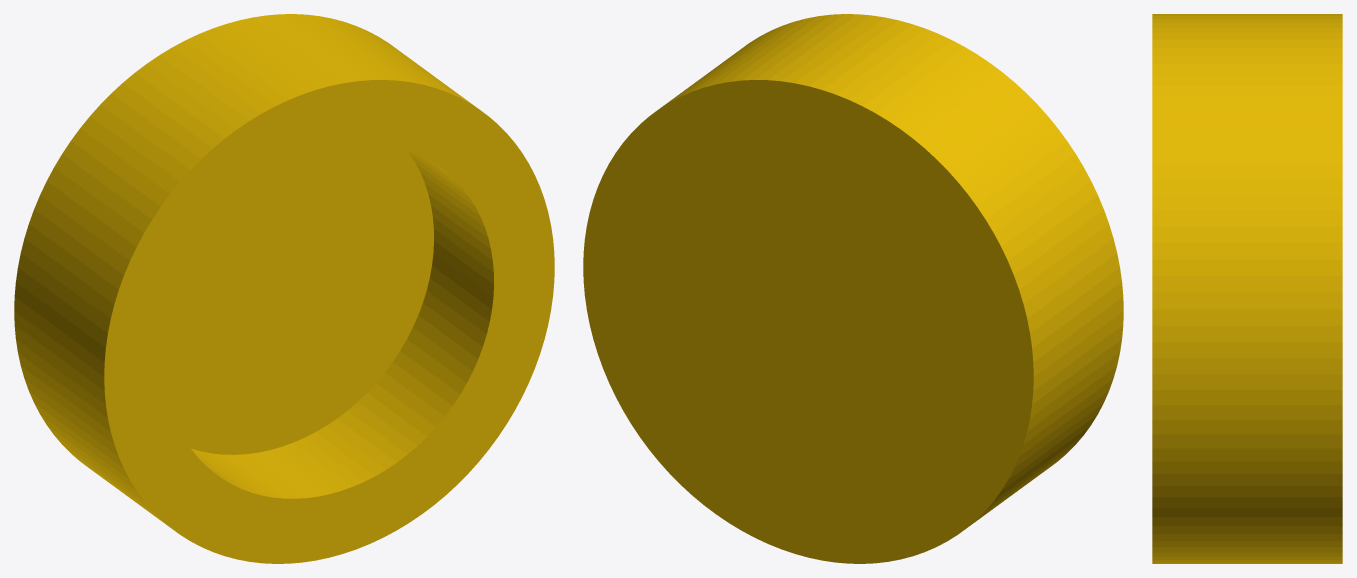
The model's file is robot_wheel.dae.
The picture shows the model from 3 angles, left to right: view 1: azimuth 30°, elevation 25°; view 2: azimuth 150°, elevation 25°; view 3: azimuth 270°, elevation 25°; orthographic projection. The views are drawn at different scales.
Parts seen in each view (by area): view 1: tmp_export_robot_wheel; view 2: tmp_export_robot_wheel; view 3: tmp_export_robot_wheel.
Part boxes in pixels (x1,y1,x2,y2): tmp_export_robot_wheel: [14, 14, 554, 563]; tmp_export_robot_wheel: [583, 14, 1123, 563]; tmp_export_robot_wheel: [1152, 14, 1342, 563].
Bounding box in the file's own units: 0.052 × 0.018 × 0.052.
